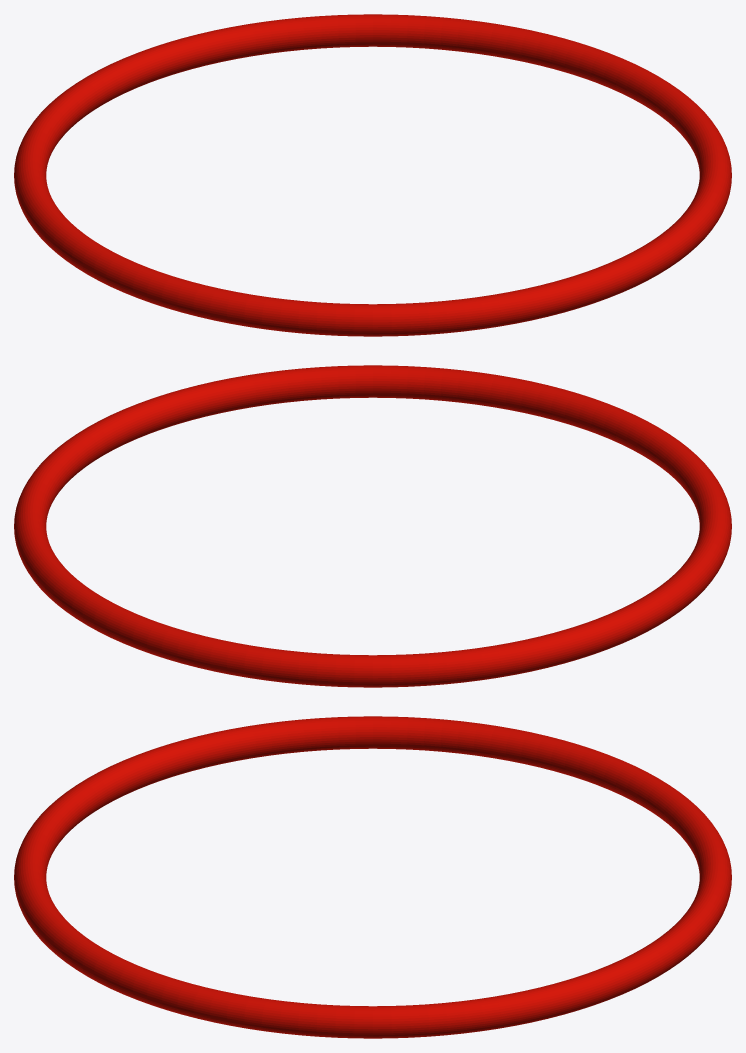
Rendered from hoop.fbx.
3 views of the same model, one above another, from view 1: azimuth 30°, elevation 25°; view 2: azimuth 150°, elevation 25°; view 3: azimuth 270°, elevation 25° (orthographic).
Visible parts, largest first — view 1: Torus.001; view 2: Torus.001; view 3: Torus.001.
Part boxes in pixels (<box>): Torus.001: <box>14,14,731,336</box>; Torus.001: <box>14,365,731,687</box>; Torus.001: <box>14,716,731,1038</box>.
Size of the model in its own units: 208 by 9.4 by 208.
